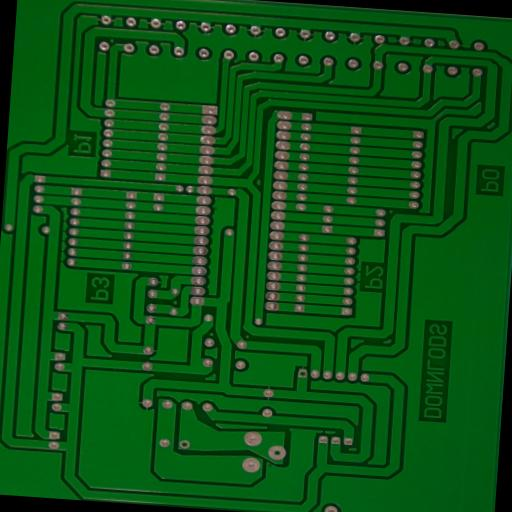missing_hole: (272, 448, 283, 457), (181, 440, 189, 447), (299, 370, 306, 376)
